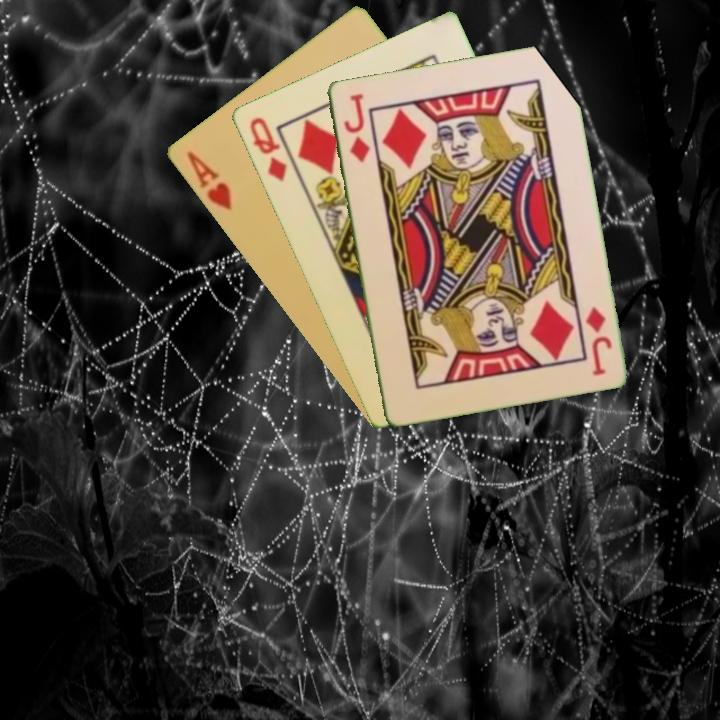Ah: (182, 147, 235, 214)
Jd: (339, 89, 373, 165), (581, 302, 615, 378)
Qd: (245, 113, 290, 185)
